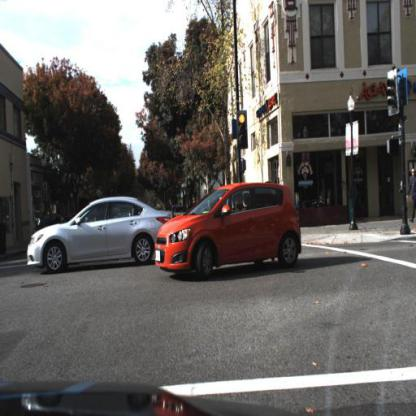car: (157, 182, 303, 278), (26, 196, 174, 277)
pedestrian: (406, 169, 416, 223)
trafficLight: (237, 112, 249, 152)
